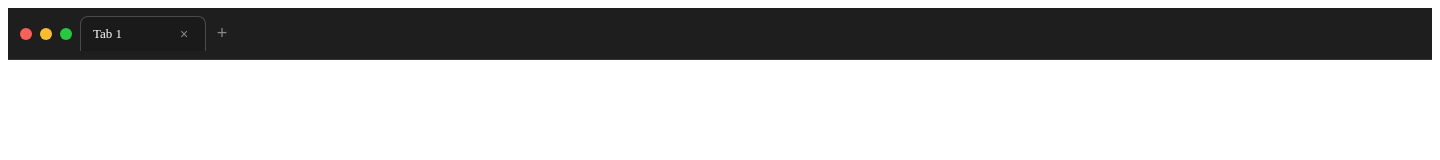
Test: TabBar › creates new tab when clicking + button
Expected: the text "Tab 1" is shown, [93,26,122,41]
Click the button "+": (222, 34) [210,22,234,46]
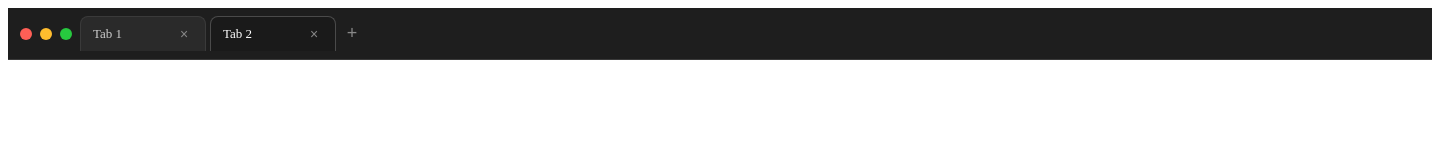
Now the text "Tab 2" is shown, box [223,26,252,41]
